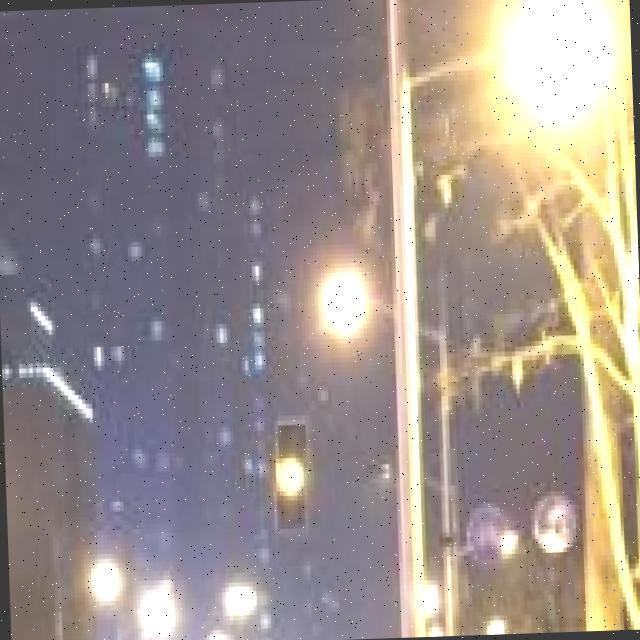yellow_light: (274, 424, 308, 538)
